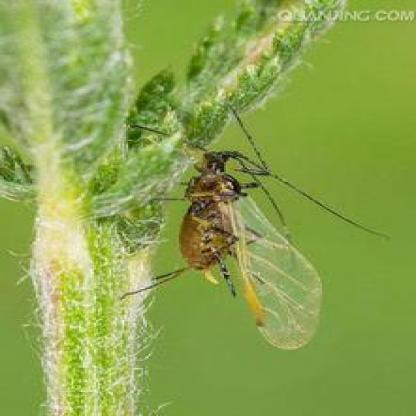aphid: (135, 106, 381, 366)
